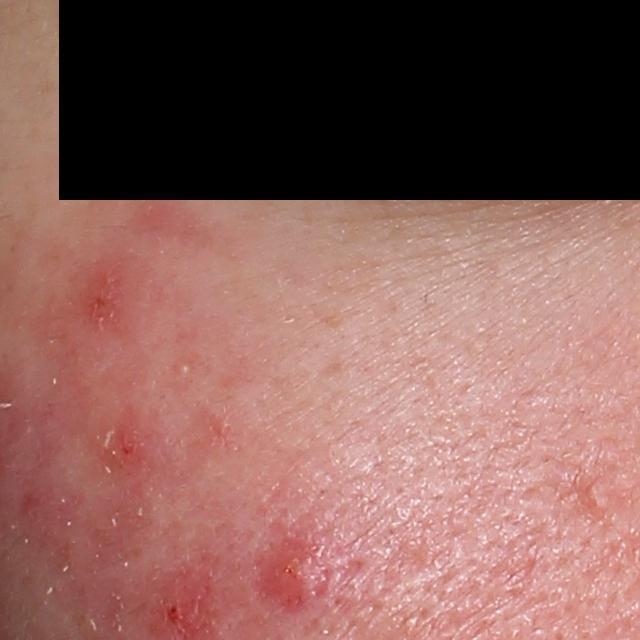comedo: (582, 477, 613, 513)
papule: (257, 544, 329, 611), (78, 266, 131, 324)
